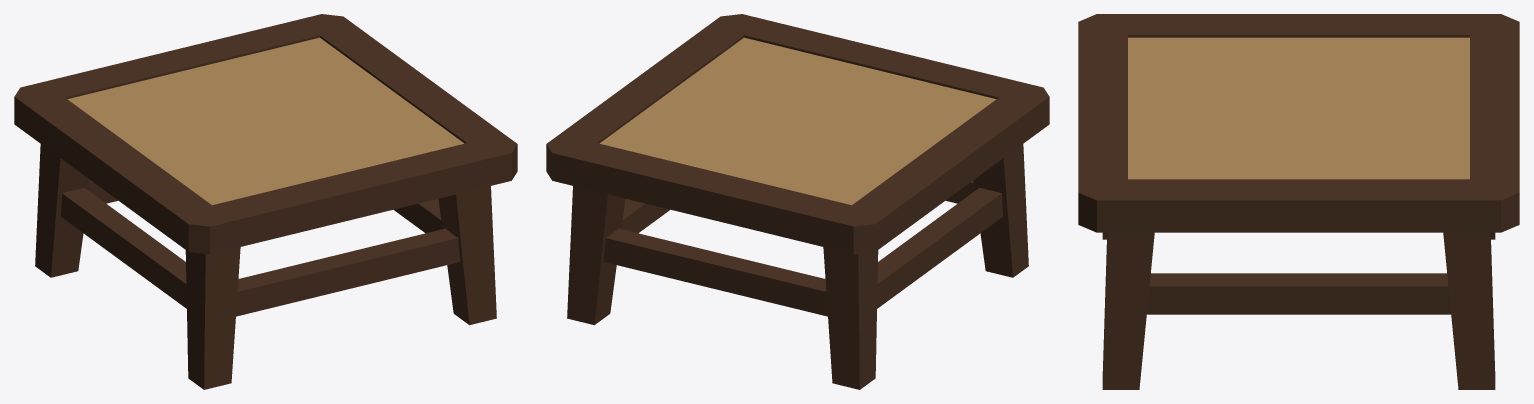
Rendered from fn_teatable.glb.
3 views of the same model, side by side, from view 1: azimuth 30°, elevation 25°; view 2: azimuth 150°, elevation 25°; view 3: azimuth 270°, elevation 25° (orthographic). The views are drawn at different scales.
Visible parts, largest first — view 1: fn_teatable__wood_dark, fn_teatable__wood_pine; view 2: fn_teatable__wood_dark, fn_teatable__wood_pine; view 3: fn_teatable__wood_dark, fn_teatable__wood_pine.
Boxes of the visible parts, box(x1,y1,x2,y2) form: fn_teatable__wood_dark: box(14, 14, 517, 389); fn_teatable__wood_pine: box(67, 37, 464, 205); fn_teatable__wood_dark: box(546, 14, 1049, 389); fn_teatable__wood_pine: box(599, 37, 996, 205); fn_teatable__wood_dark: box(1078, 14, 1519, 389); fn_teatable__wood_pine: box(1128, 37, 1469, 179).
Bounding box in the file's own units: 12 × 6 × 12.
